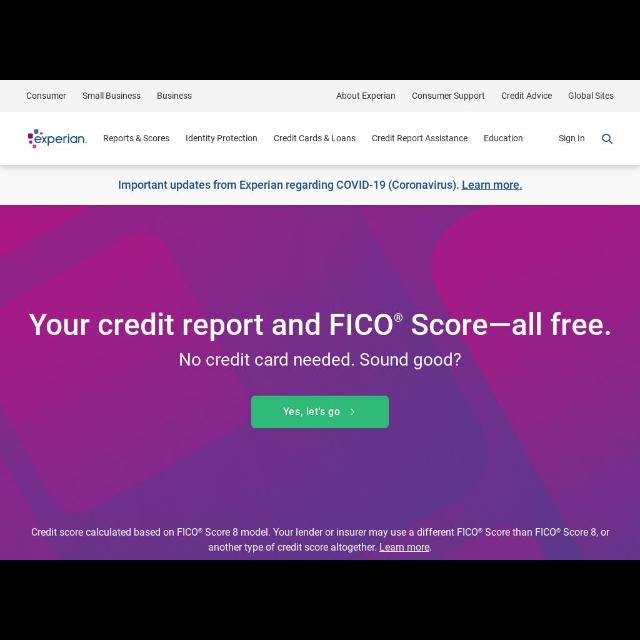backgroundimage: (1, 205, 640, 560)
icon: (600, 134, 614, 146), (350, 406, 354, 416)
image: (28, 128, 88, 150)
link: (462, 180, 522, 192)
multitab: (1, 80, 639, 112), (96, 128, 534, 150)
text: (30, 526, 612, 556), (28, 313, 610, 342), (179, 352, 461, 371), (118, 178, 460, 192), (371, 134, 469, 144), (273, 134, 357, 144), (410, 91, 486, 102), (186, 134, 258, 144), (283, 406, 341, 418), (103, 133, 171, 143), (336, 91, 396, 101), (81, 92, 140, 100), (482, 134, 524, 144), (501, 92, 553, 100), (568, 92, 614, 100), (26, 92, 66, 100), (156, 92, 192, 100), (558, 134, 584, 144)
textbutton: (251, 394, 389, 428)
